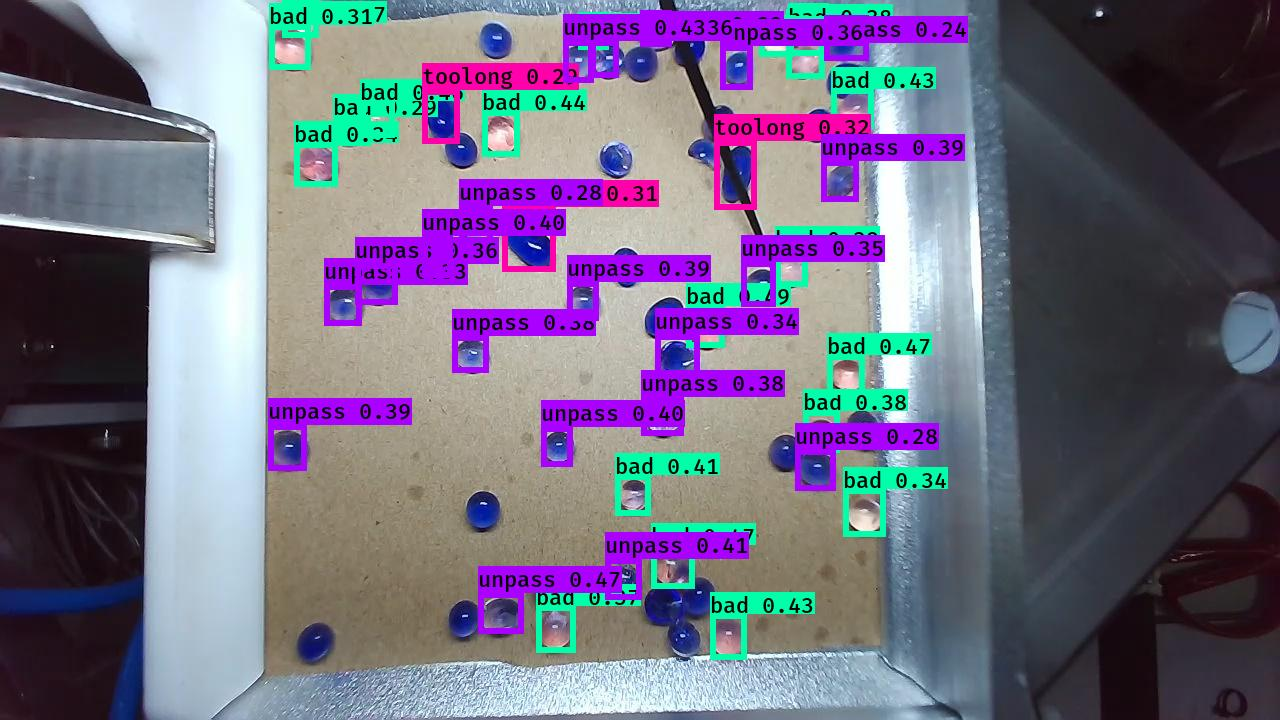bad: (649, 545, 695, 590), (295, 143, 342, 187), (685, 306, 727, 348), (272, 29, 313, 70), (706, 617, 747, 658), (845, 496, 886, 536), (481, 115, 519, 158), (792, 5, 829, 46), (359, 101, 395, 142), (538, 611, 574, 652), (773, 250, 812, 287), (828, 359, 867, 394), (760, 16, 794, 55), (839, 95, 875, 131), (614, 478, 651, 513), (786, 46, 824, 80), (282, 1, 319, 35), (329, 118, 365, 152), (804, 419, 838, 452), (575, 22, 605, 53)
defact: (686, 135, 723, 170)
pass: (644, 295, 686, 338), (296, 622, 336, 665), (530, 567, 569, 611), (643, 587, 686, 626), (847, 410, 882, 456), (465, 489, 502, 532), (446, 597, 481, 641), (610, 247, 645, 289), (826, 59, 865, 96), (769, 433, 804, 473), (667, 623, 703, 660), (801, 108, 836, 146), (686, 574, 715, 619), (445, 133, 478, 170), (626, 47, 659, 80)
toolong: (496, 210, 557, 272), (423, 88, 459, 146), (719, 145, 754, 204)
unpass: (267, 428, 313, 473), (657, 339, 702, 383), (638, 11, 684, 52), (481, 591, 522, 637), (359, 266, 398, 306), (325, 286, 363, 327), (457, 206, 493, 248), (826, 159, 864, 198), (742, 268, 781, 306), (827, 22, 865, 61), (799, 450, 836, 490), (598, 137, 633, 179), (567, 283, 604, 322), (418, 236, 454, 276), (476, 21, 513, 58), (645, 400, 681, 437), (456, 337, 492, 374), (541, 430, 577, 466), (607, 562, 641, 599), (594, 44, 626, 82), (562, 45, 594, 81), (723, 49, 755, 85)
